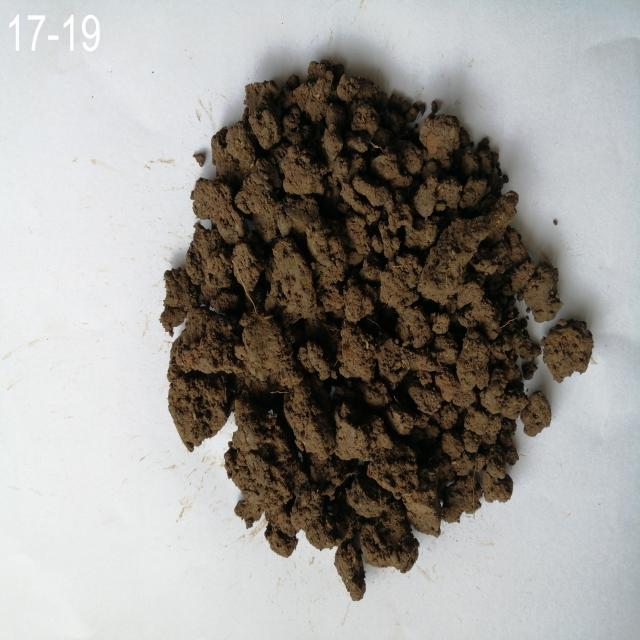soil: (248, 126, 484, 478)
